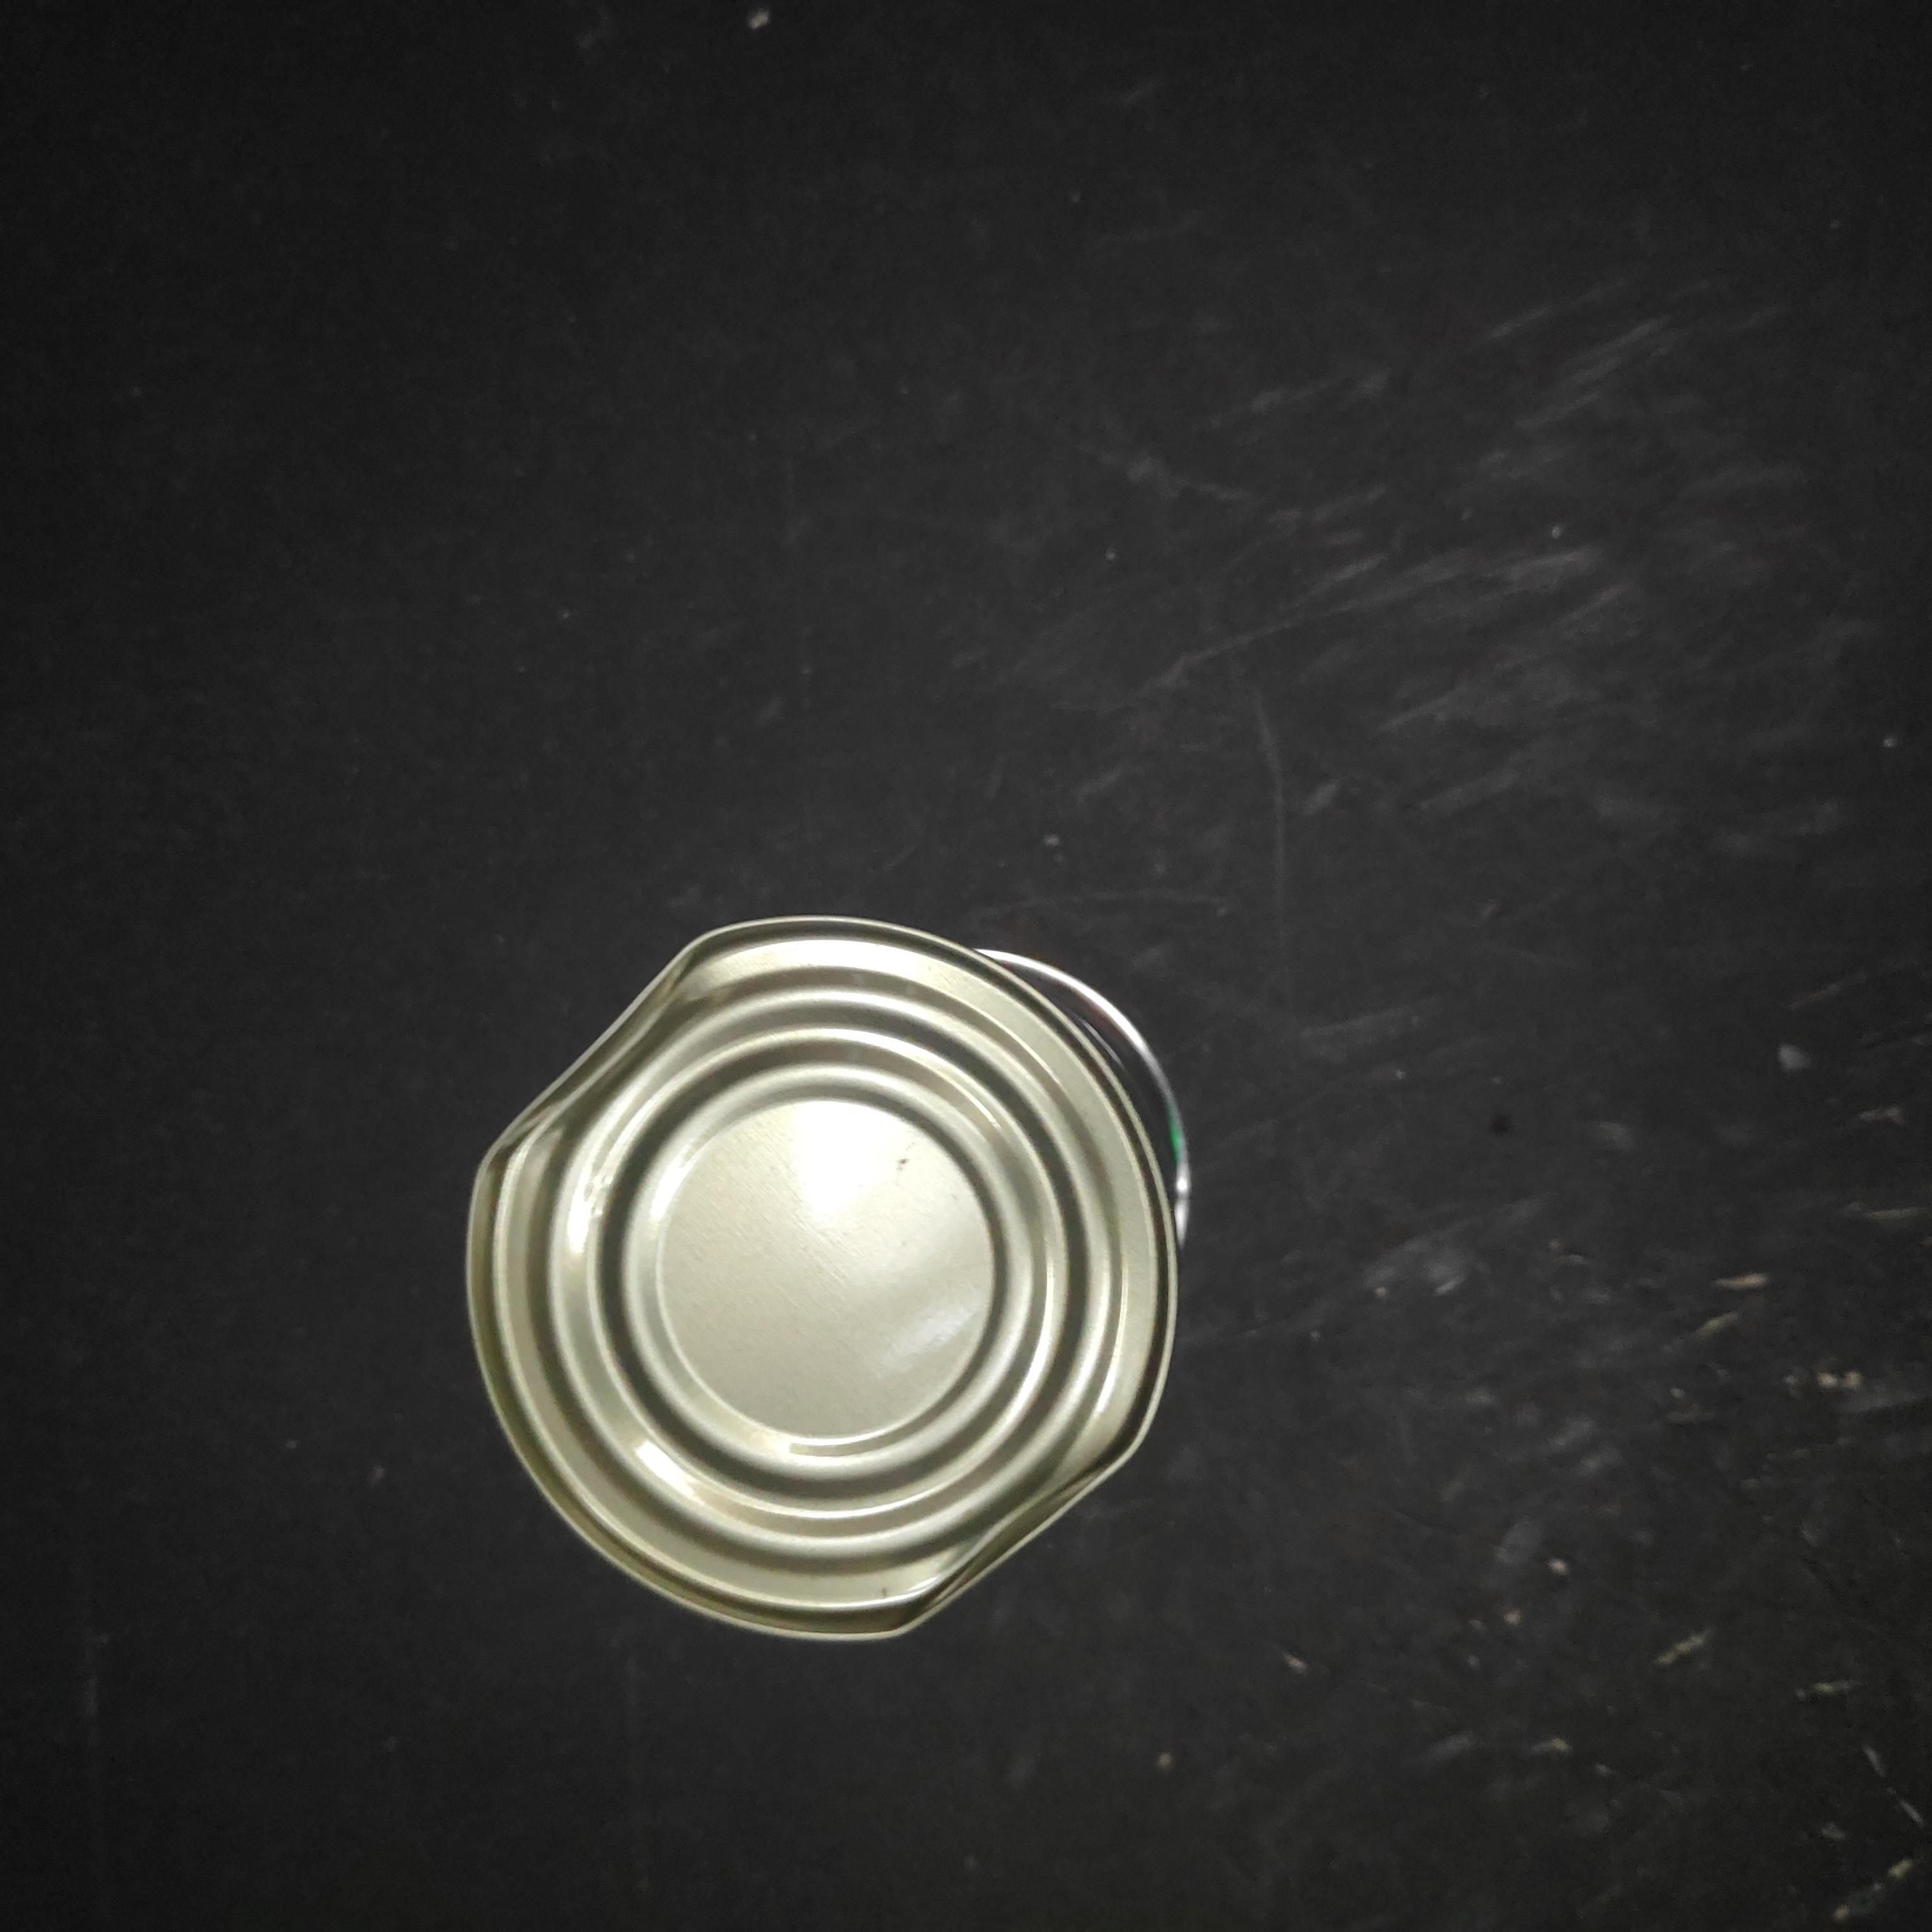Minor Defect: (748, 278, 1463, 1033)
